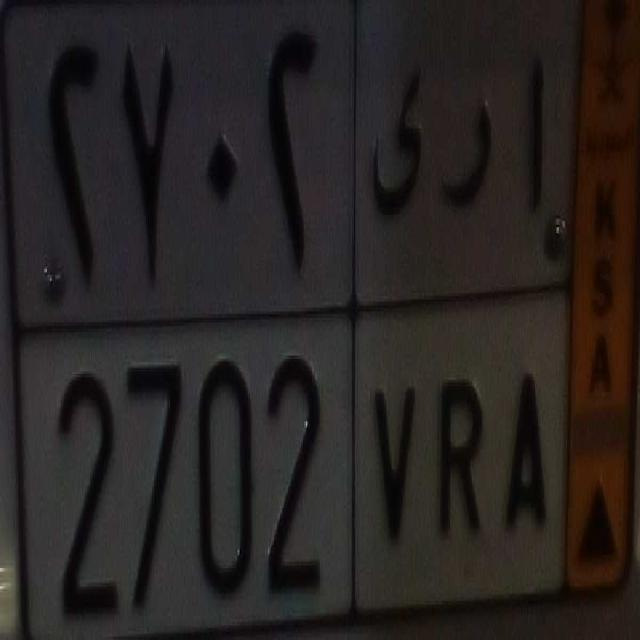license_plate: (15, 303, 569, 640)
